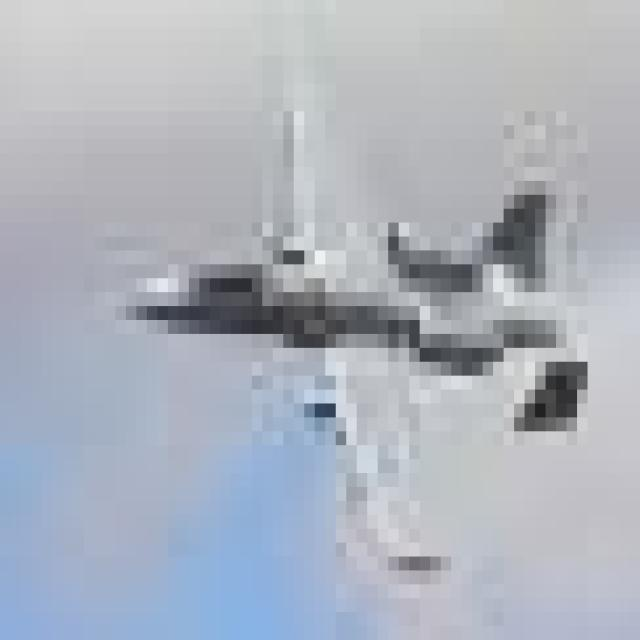A10: (106, 62, 640, 572)
